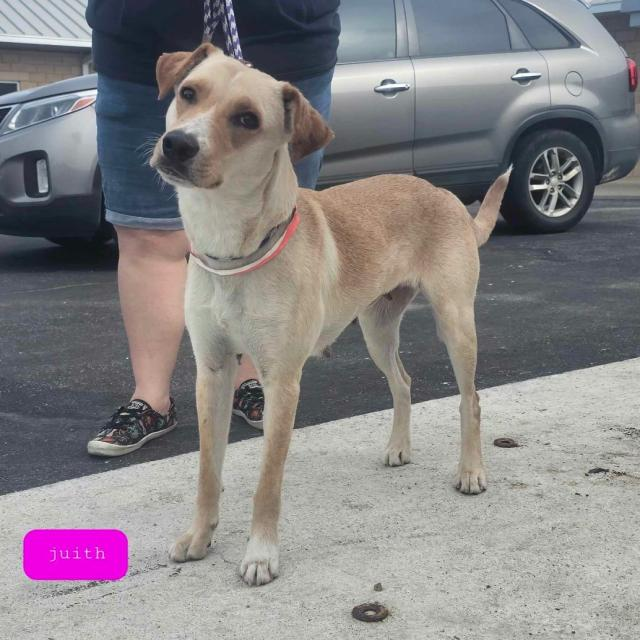labrador_retriever_dog: (142, 34, 344, 219)
